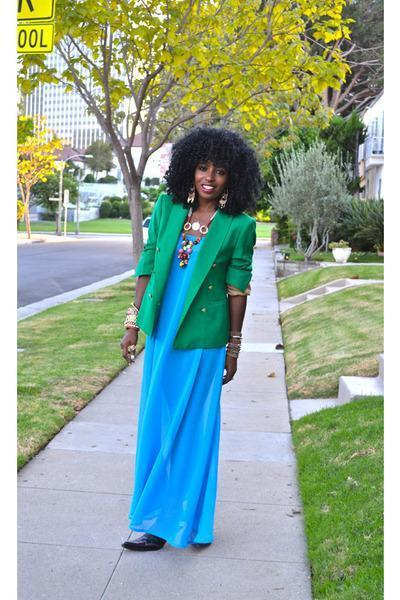dress: (129, 228, 227, 547)
jacket: (135, 194, 260, 350)
shoe: (132, 534, 211, 553)
